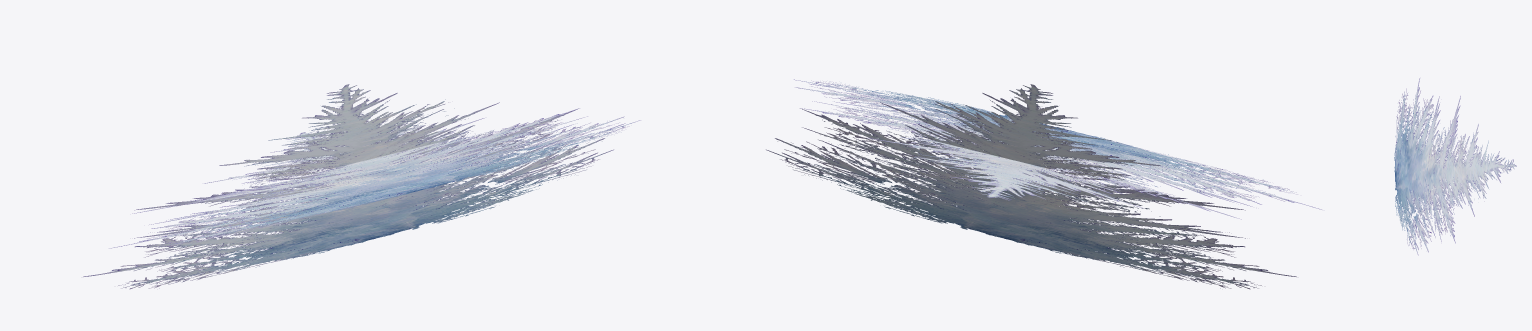
Rendered from ShiZiPian.FBX.
The picture shows the model from 3 angles, left to right: view 1: azimuth 30°, elevation 25°; view 2: azimuth 150°, elevation 25°; view 3: azimuth 270°, elevation 25°; orthographic projection. The views are drawn at different scales.
Visible parts, largest first — view 1: ShiZiPian; view 2: ShiZiPian; view 3: ShiZiPian.
Part boxes in pixels (left/top/right/bottom): ShiZiPian: left=83, top=84, right=640, bottom=289; ShiZiPian: left=766, top=79, right=1321, bottom=289; ShiZiPian: left=1394, top=78, right=1516, bottom=255.
Bounding box in the file's own units: 131 × 35.85 × 35.85.
